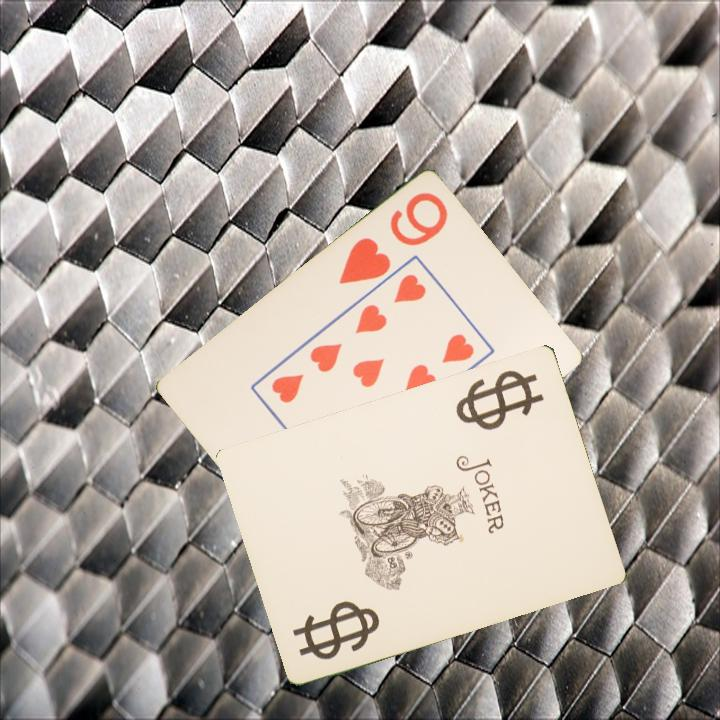9h: (335, 189, 451, 288)
JK: (289, 602, 383, 663), (458, 371, 531, 421)
